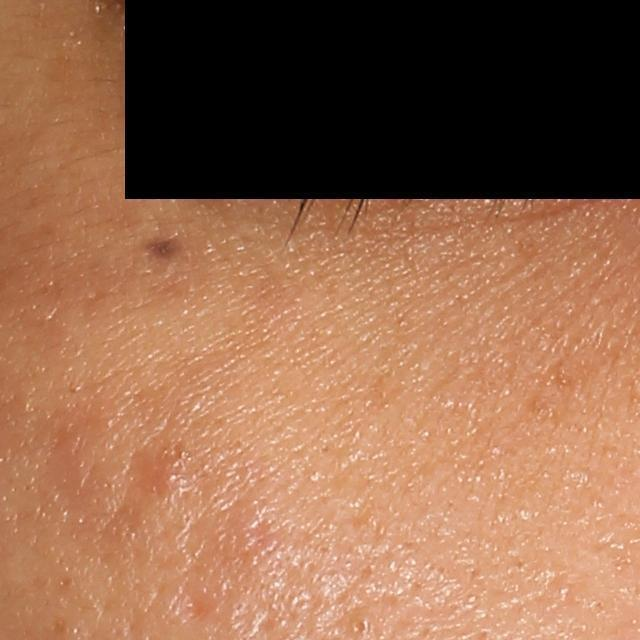atrophic_scar: (173, 568, 224, 625)
comedo: (347, 613, 374, 640)
nevus: (133, 230, 191, 266)
